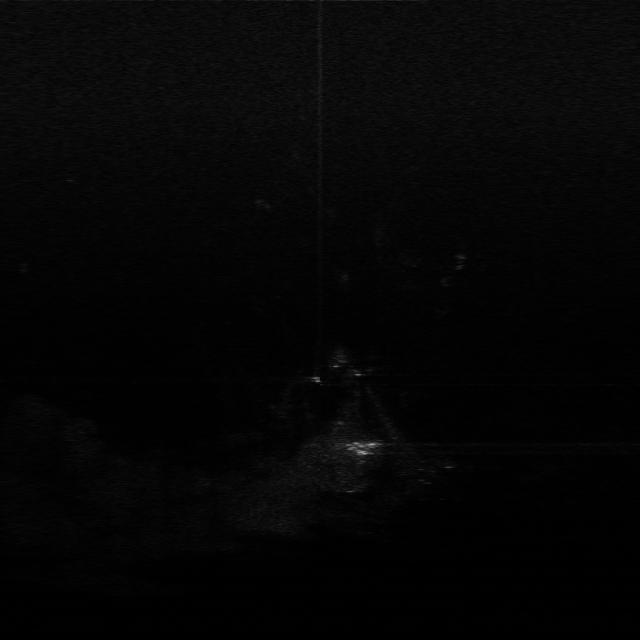rov: (338, 435, 383, 461)
